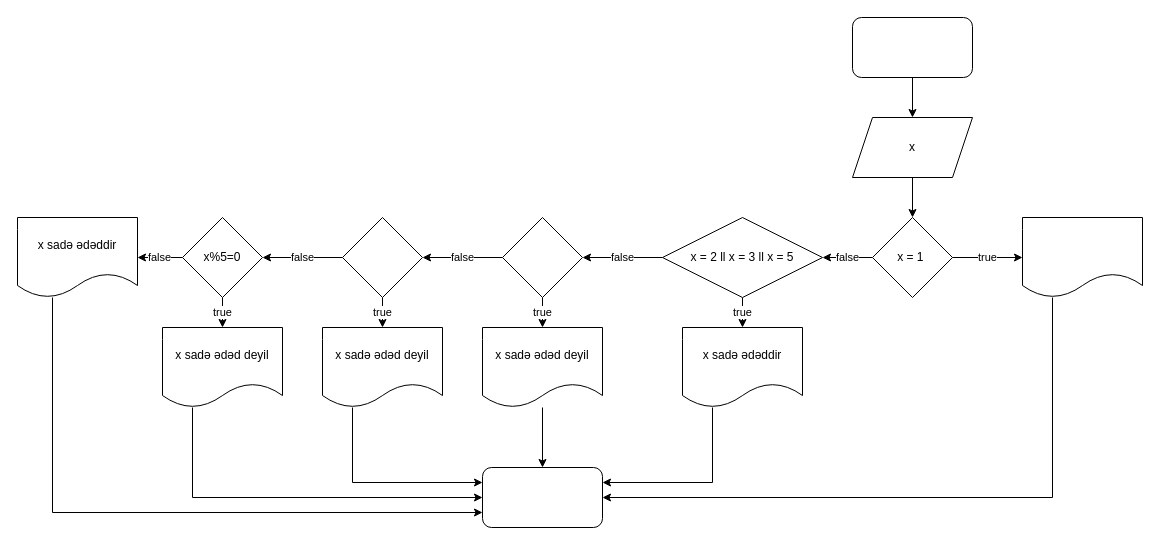
Some shapes in this 1160 by 545 pixel diagram are drawn without their labels. Here are the shapes that lost their labels. From the top down, the centre of each, then its label:
At (912,47): "start".
At (382,257): "x%3=0".
At (542,257): "x%2=0".
At (1082,257): "nə sadə nə mürəkkəb".
At (542,497): "end".
